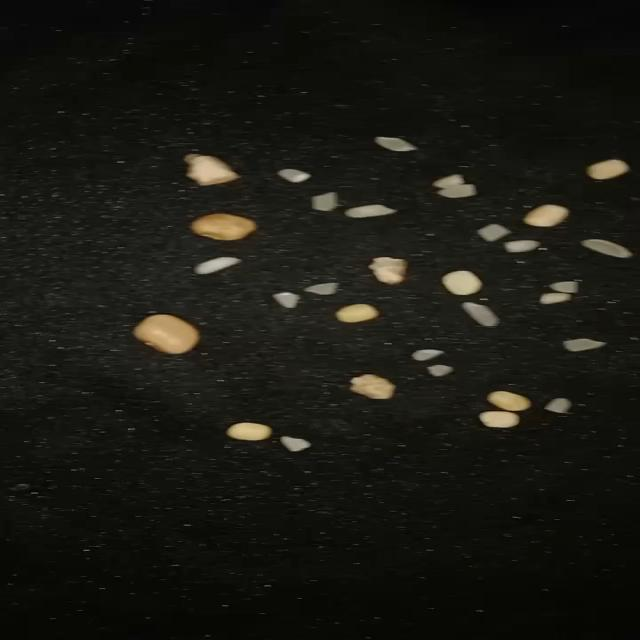Broken: (375, 136, 415, 152), (478, 224, 512, 242), (435, 184, 478, 198), (564, 338, 605, 352), (312, 192, 337, 212), (302, 282, 340, 295), (273, 291, 300, 309), (505, 240, 542, 253), (281, 436, 311, 451), (278, 169, 310, 183), (432, 174, 464, 188), (544, 398, 571, 414), (412, 349, 444, 361), (549, 281, 577, 294), (541, 293, 570, 304), (427, 364, 453, 376)
Full: (582, 239, 633, 258), (463, 302, 499, 326), (195, 256, 241, 274), (345, 204, 397, 218)
